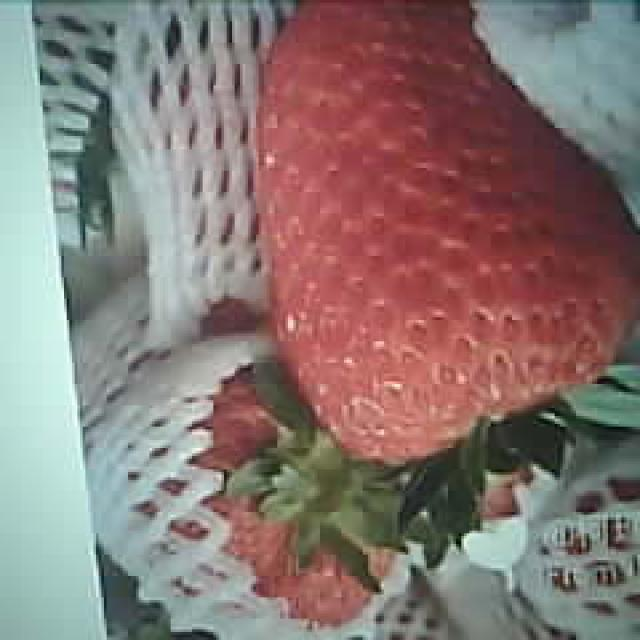ripe: (258, 0, 638, 456)
